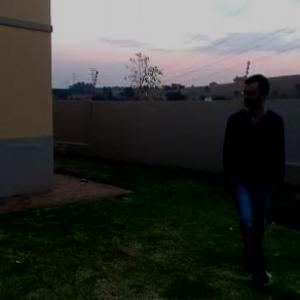follow: (216, 69, 272, 269)
